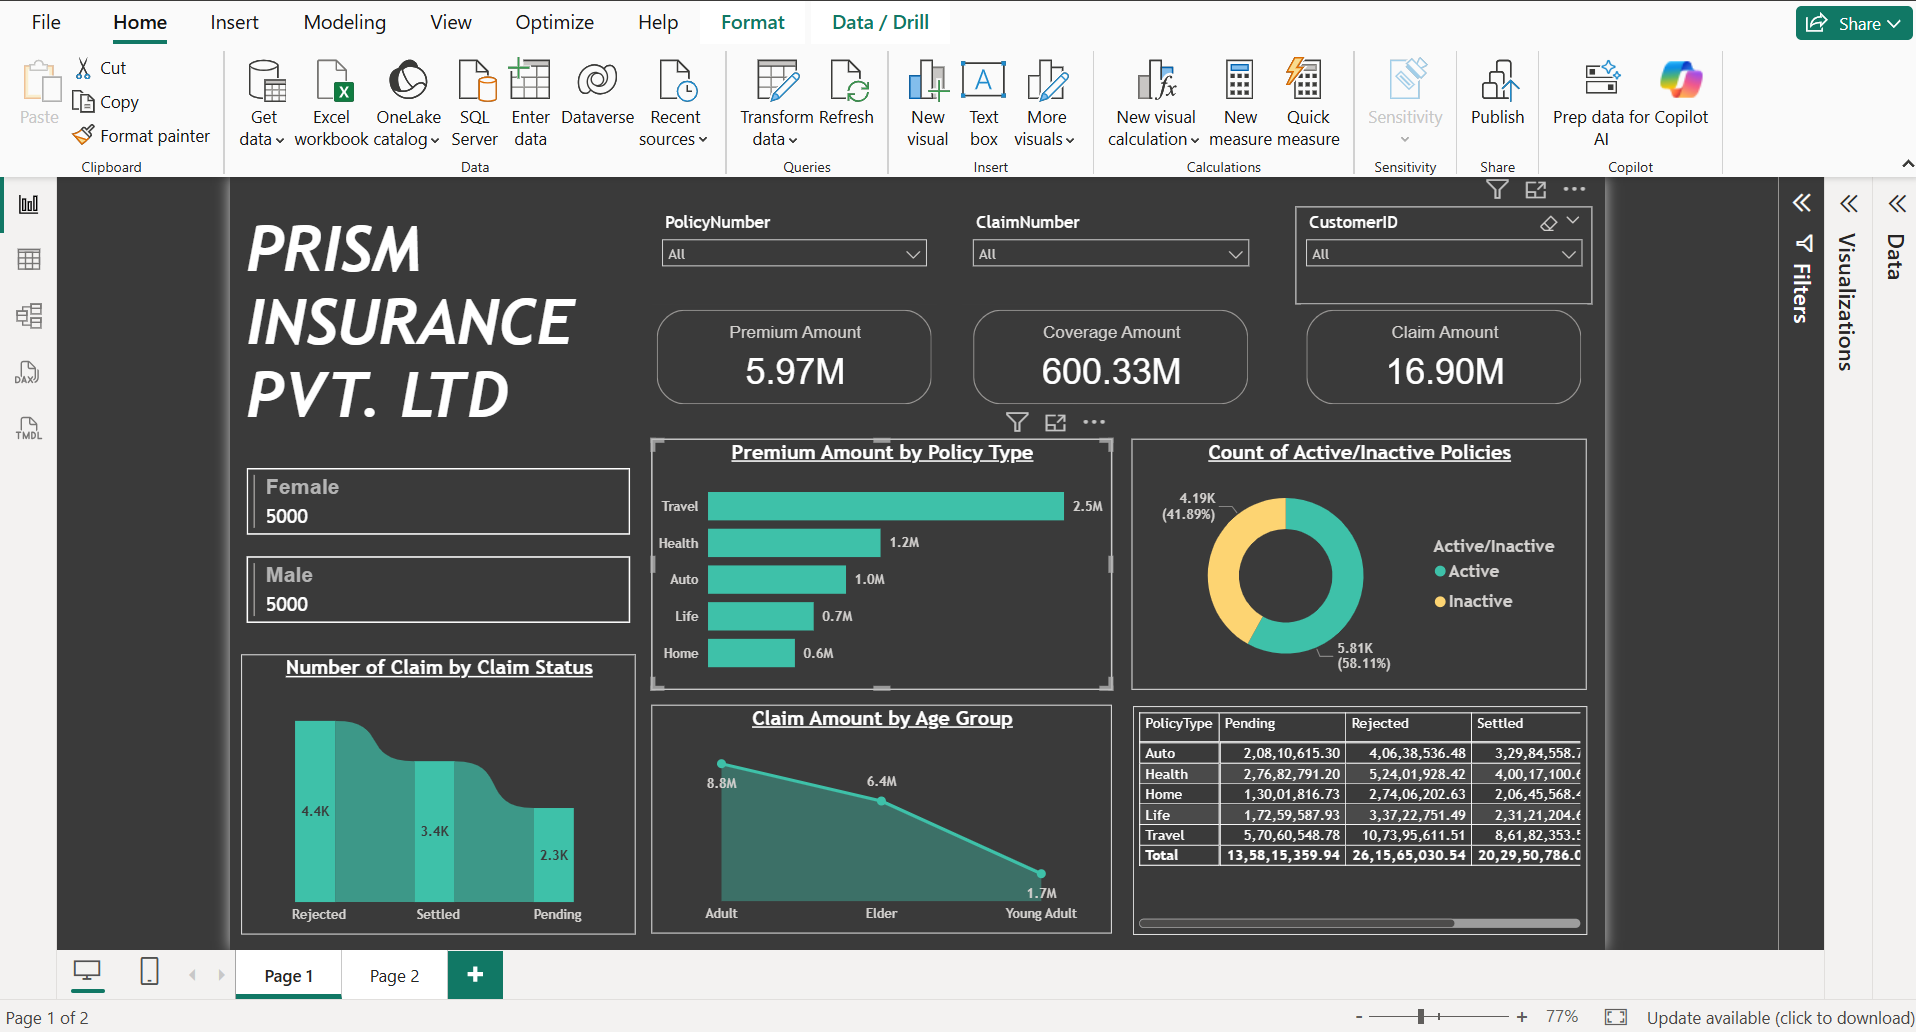

This screenshot's page, from the dashboard's own definition file:
{"tool":"powerbi","page":{"name":"Page 1","canvas":[1280,720],"ordinal":0},"visuals":[{"type":"slicer","fields":{"Values":["InsuranceData.PolicyNumber"]},"box":[391.9,27.3,266.3,91.5],"z":0},{"type":"slicer","fields":{"Values":["InsuranceData.ClaimNumber"]},"box":[681.5,27.3,277.2,91.5],"z":1000},{"type":"slicer","fields":{"Values":["InsuranceData.CustomerID"]},"box":[991.5,27.3,277.2,91.5],"z":2000},{"type":"textbox","box":[10.9,27.3,381,239],"z":3000},{"type":"cardVisual","fields":{"Data":["Sum(InsuranceData.PremiumAmount)"]},"box":[391.9,118.8,266.3,98.3],"z":4000},{"type":"cardVisual","fields":{"Data":["Sum(InsuranceData.CoverageAmount)"]},"box":[686.9,118.8,266.3,98.3],"z":5000},{"type":"cardVisual","fields":{"Data":["Sum(InsuranceData.ClaimAmount)"]},"box":[996.9,118.8,266.3,98.3],"z":6000},{"type":"multiRowCard","fields":{"Values":["InsuranceData.Gender","CountNonNull(InsuranceData.Gender)"]},"box":[10.9,266.3,367.4,177.5],"z":7000},{"type":"ribbonChart","title":"Number of Claim by Claim Status","fields":{"Category":["InsuranceData.ClaimStatus"],"Y":["CountNonNull(InsuranceData.ClaimStatus)"]},"box":[10.9,443.8,367.4,260.8],"z":8000},{"type":"barChart","title":"Premium Amount by Policy Type","fields":{"Y":["Sum(InsuranceData.PremiumAmount)"],"Category":["InsuranceData.PolicyType"]},"box":[391.9,243.1,428.8,233.5],"z":9000},{"type":"lineChart","title":"Claim Amount by Age Group","fields":{"Category":["InsuranceData.Age Group"],"Y":["Sum(InsuranceData.ClaimAmount)"]},"box":[391.9,491.6,428.8,213],"z":10000},{"type":"donutChart","title":"Count of Active/Inactive Policies ","fields":{"Category":["InsuranceData.Active/Inactive"],"Y":["CountNonNull(InsuranceData.Active/Inactive)"]},"box":[839.9,243.1,423.4,233.5],"z":11000},{"type":"pivotTable","fields":{"Values":["Sum(InsuranceData.CoverageAmount)"],"Rows":["InsuranceData.PolicyType"],"Columns":["InsuranceData.ClaimStatus"]},"box":[840,492,423,213],"z":12000}]}

Visuals, with their boxes on the page's 1280x720 design canvas (x1, y1, x2, y2). These are canvas units, not pixel positions in the 1916x1032 screenshot, which may show the page scaled, cropped or inside an application window:
slicer - InsuranceData.PolicyNumber: [392,27,658,119]
slicer - InsuranceData.ClaimNumber: [682,27,959,119]
slicer - InsuranceData.CustomerID: [992,27,1269,119]
textbox: [11,27,392,266]
cardVisual - Sum(InsuranceData.PremiumAmount): [392,119,658,217]
cardVisual - Sum(InsuranceData.CoverageAmount): [687,119,953,217]
cardVisual - Sum(InsuranceData.ClaimAmount): [997,119,1263,217]
multiRowCard - InsuranceData.Gender x CountNonNull(InsuranceData.Gender): [11,266,378,444]
"Number of Claim by Claim Status" ribbonChart: [11,444,378,705]
"Premium Amount by Policy Type" barChart: [392,243,821,477]
"Claim Amount by Age Group" lineChart: [392,492,821,705]
"Count of Active/Inactive Policies " donutChart: [840,243,1263,477]
pivotTable - Sum(InsuranceData.CoverageAmount) x InsuranceData.PolicyType: [840,492,1263,705]
